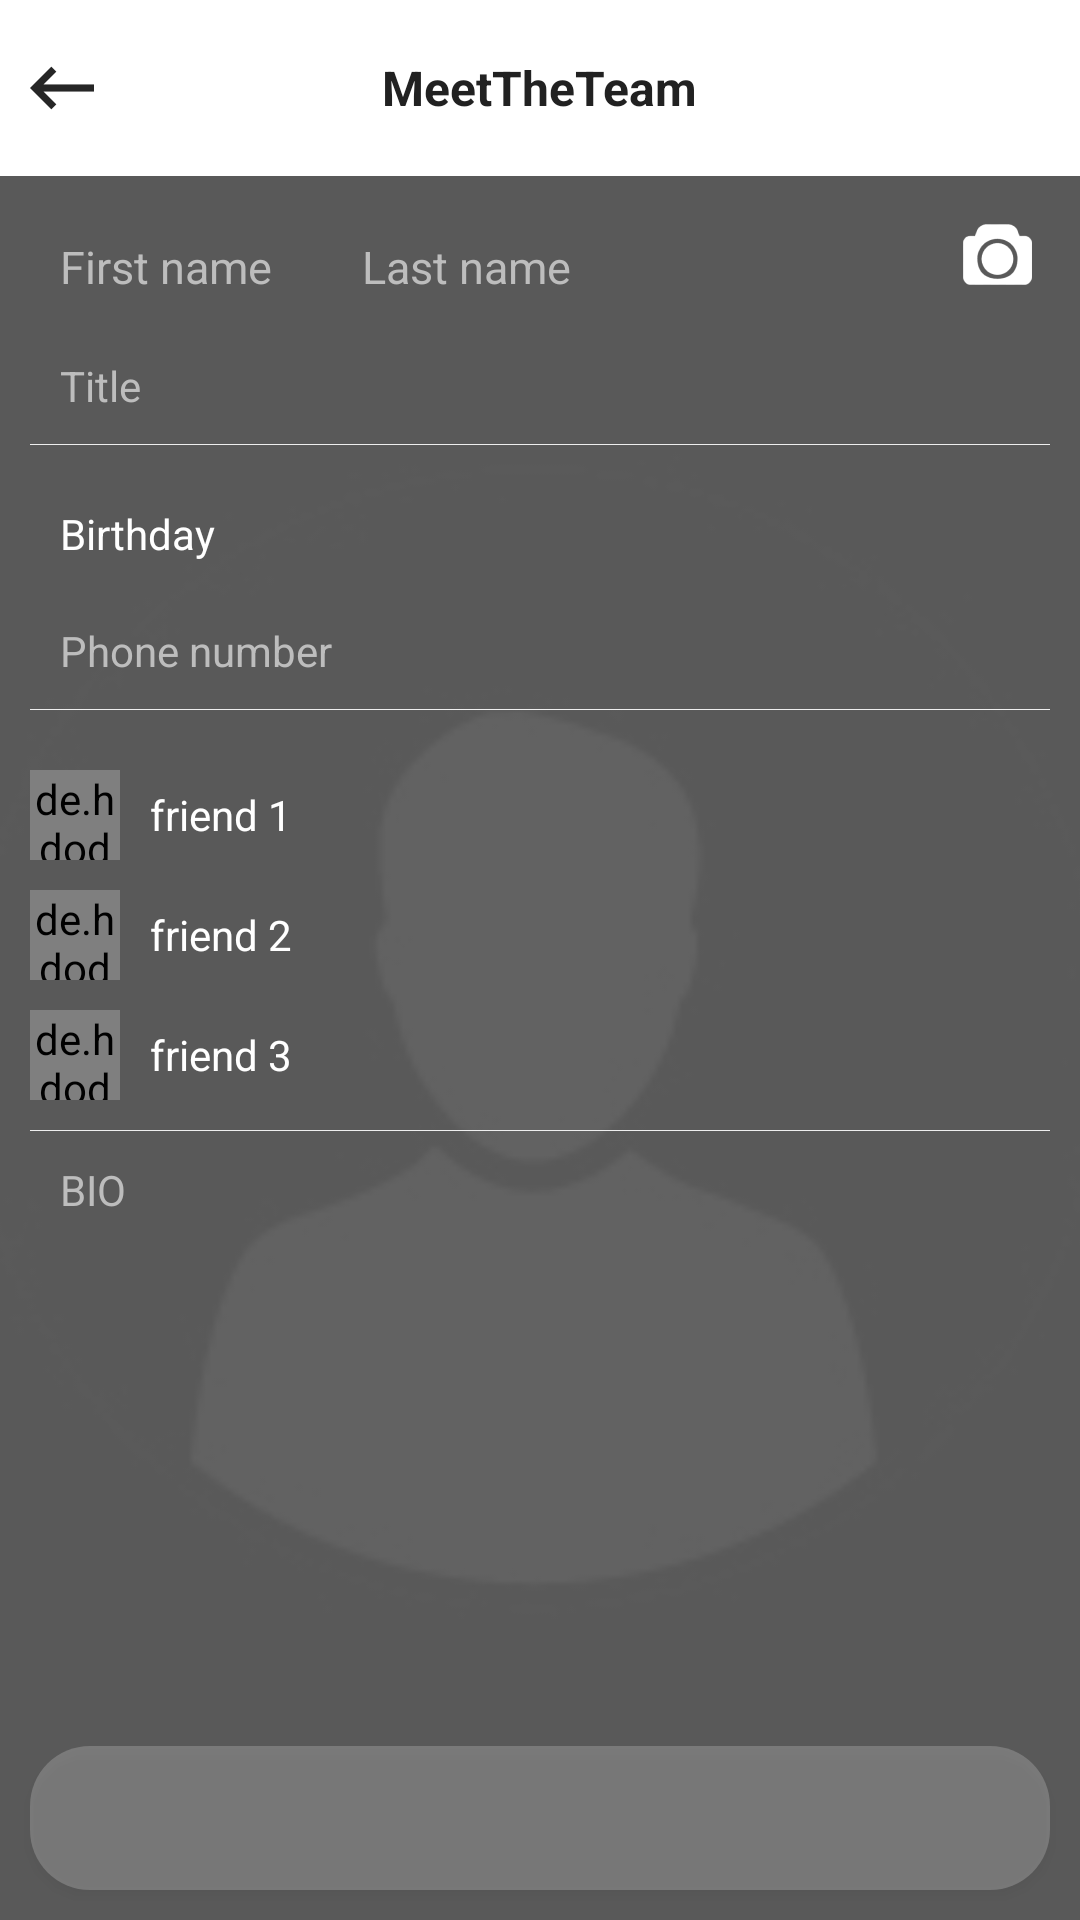

Named icons in this screenshot (1080w x 1920h) and their centers, point (x, y):
back: point (62, 88)
camera: point (997, 254)
